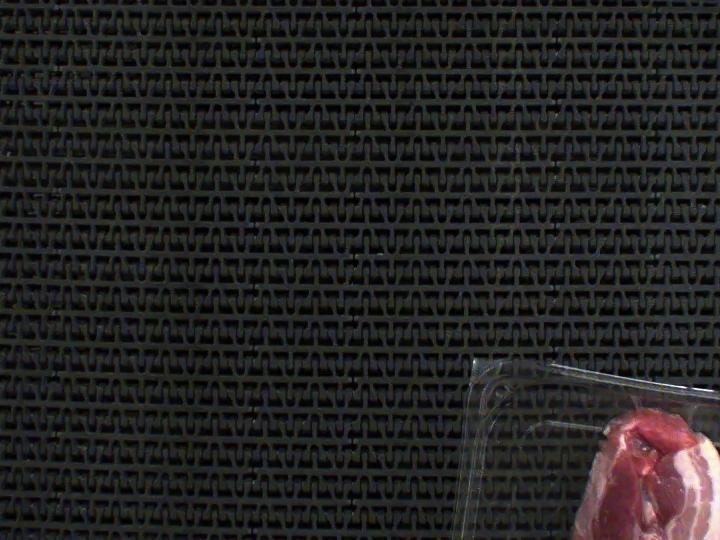packaging-error: (632, 391, 706, 423)
